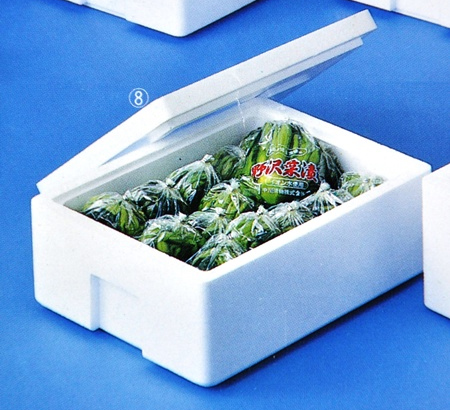Foam Box: (25, 4, 438, 388)
